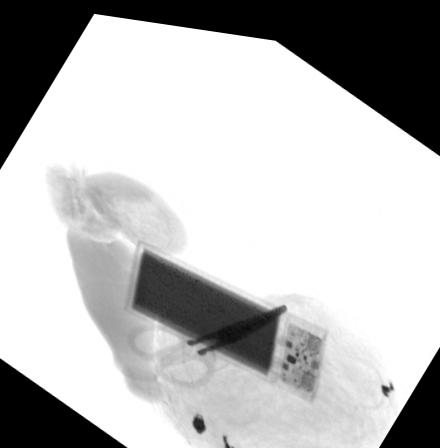Powerbank: (121, 230, 328, 395)
Scissors: (121, 291, 293, 383)
